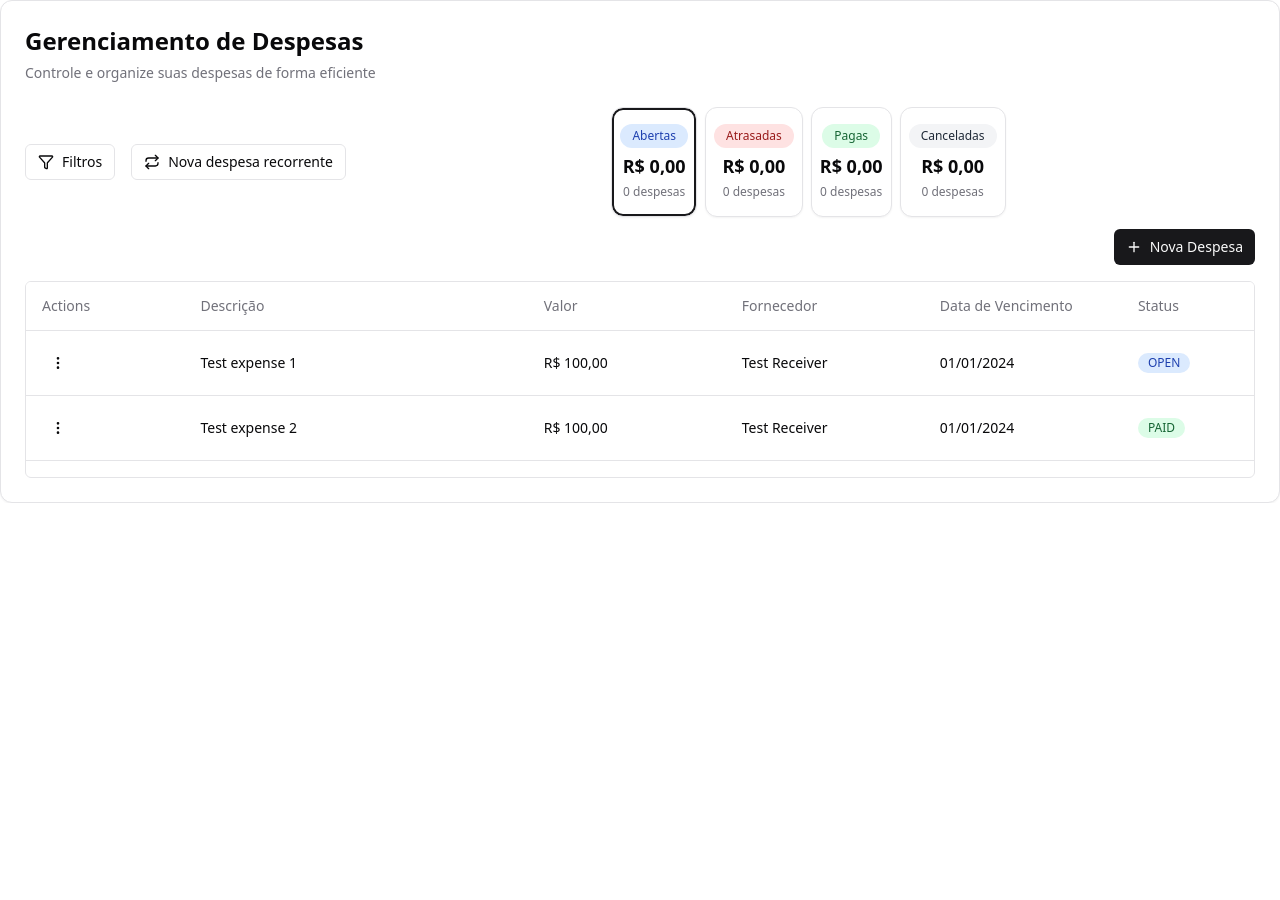
Test case: ExpensesPage Integration › full filter change flow › should handle complete flow: open modal → apply filters → cache invalidation → refetch from page 1
Expected: the table with test id "expenses-table" is shown, [26, 282, 1254, 460]
Click the button with test id "filter-button": (70, 162) [25, 144, 115, 180]
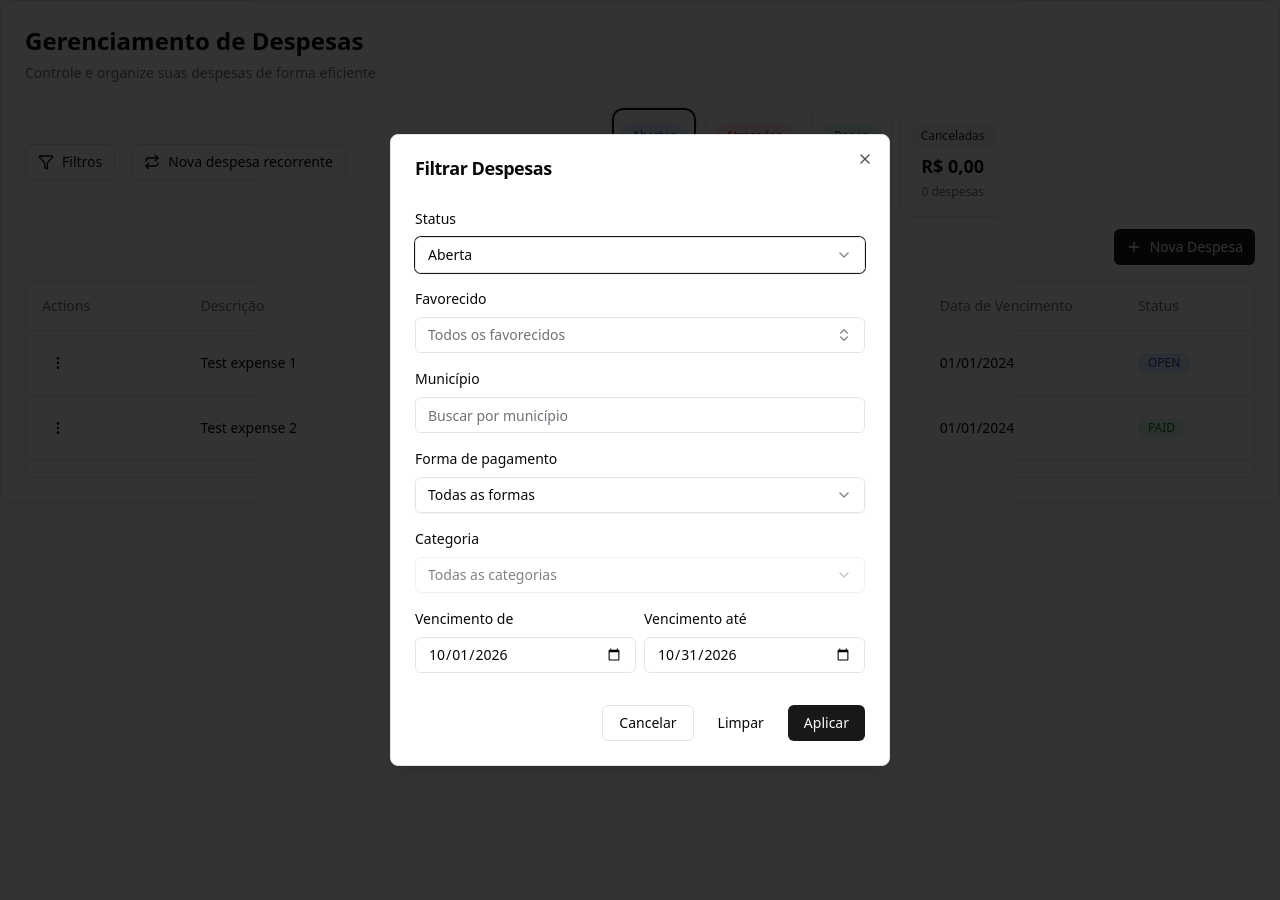
Now the heading "Filtrar Despesas" is shown, box [415, 156, 552, 180]
Click the button "Aplicar": (826, 723) [788, 705, 865, 741]
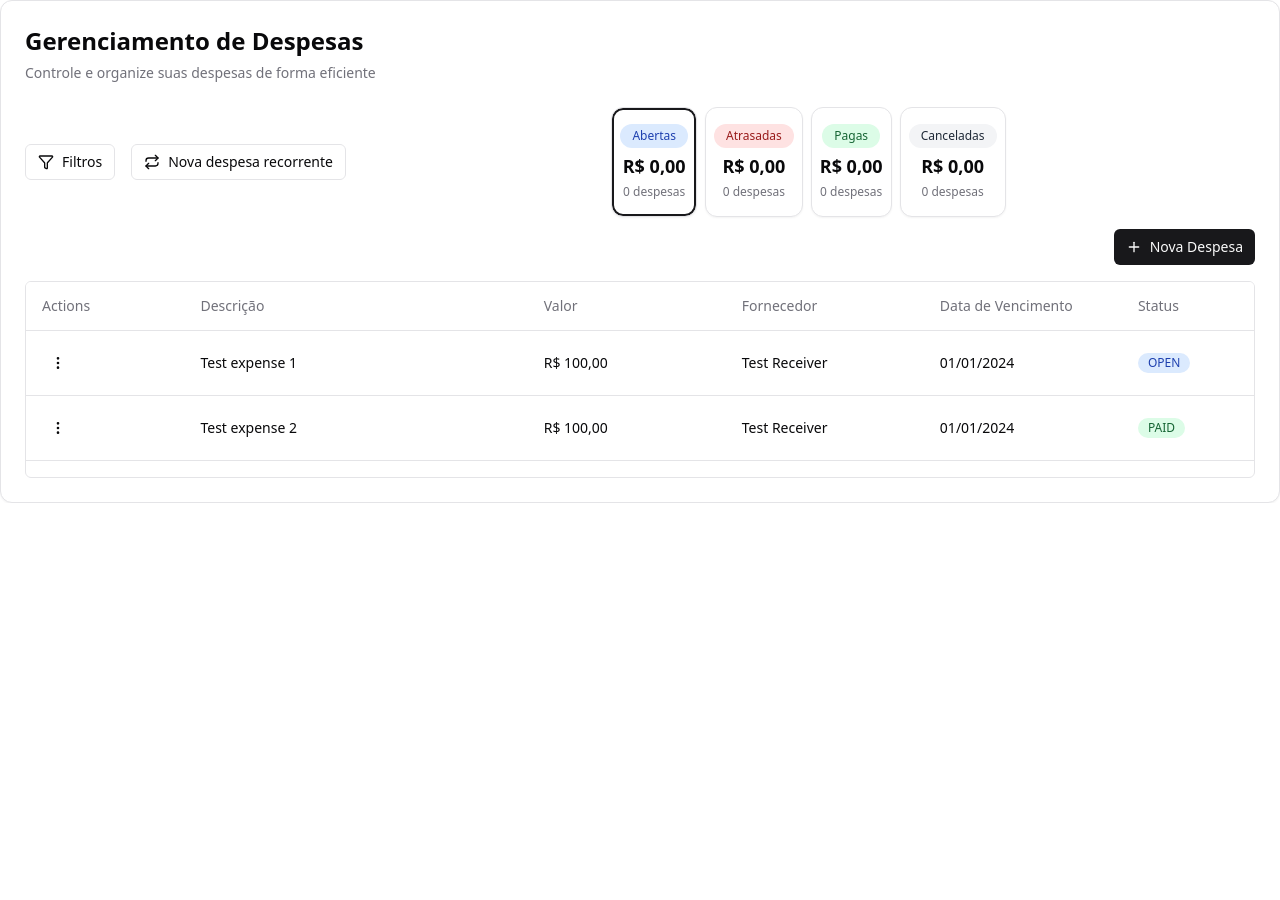
Now the heading "Filtrar Despesas" is gone
